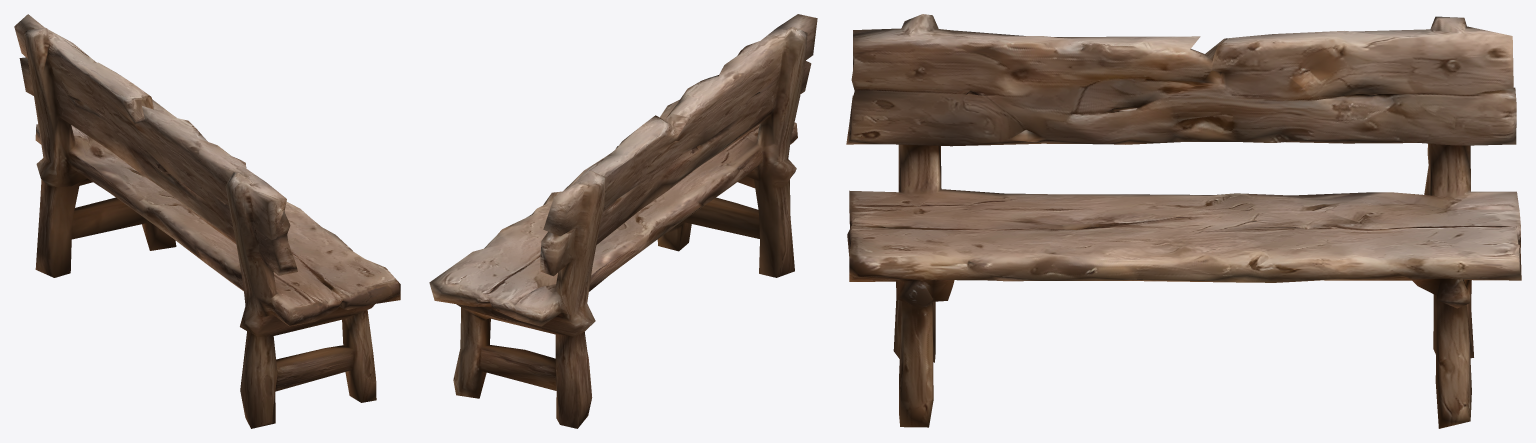
File: kh_bench.glb
The picture shows the model from 3 angles, left to right: view 1: azimuth 30°, elevation 25°; view 2: azimuth 150°, elevation 25°; view 3: azimuth 270°, elevation 25°; orthographic projection. The views are drawn at different scales.
Parts seen in each view (by area): view 1: tripo_node_f09ffecf-f14f-43ae-a940-9ec19bd31717; view 2: tripo_node_f09ffecf-f14f-43ae-a940-9ec19bd31717; view 3: tripo_node_f09ffecf-f14f-43ae-a940-9ec19bd31717.
Part boxes in pixels (x1=…): tripo_node_f09ffecf-f14f-43ae-a940-9ec19bd31717: x1=14, y1=14, x2=400, y2=428; tripo_node_f09ffecf-f14f-43ae-a940-9ec19bd31717: x1=429, y1=14, x2=817, y2=428; tripo_node_f09ffecf-f14f-43ae-a940-9ec19bd31717: x1=846, y1=14, x2=1521, y2=428.
Bounding box in the file's own units: 0.3404 × 0.5421 × 1.
Materials: 1 (1 with a texture image).
